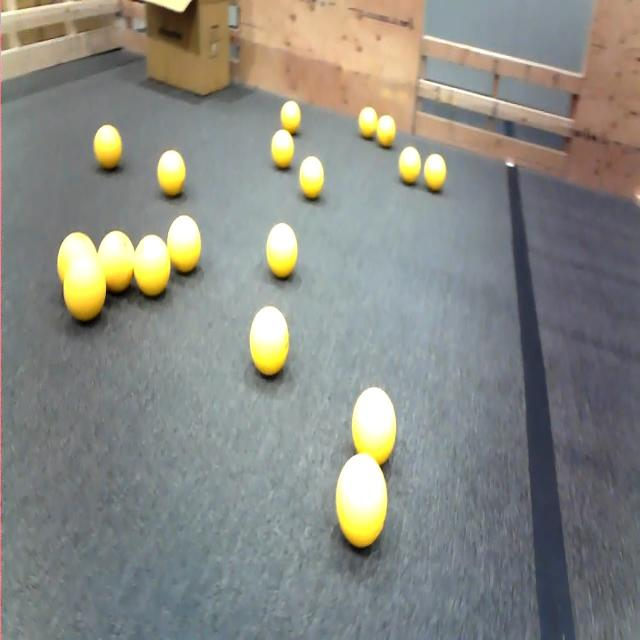fuel: (336, 454, 387, 548), (352, 387, 396, 464), (63, 254, 106, 321), (250, 306, 288, 376), (134, 234, 170, 297), (98, 231, 134, 293), (57, 232, 96, 283), (167, 215, 201, 273), (266, 223, 297, 278), (157, 150, 185, 197), (94, 125, 122, 170), (299, 156, 324, 199), (271, 129, 294, 168), (424, 154, 447, 192), (399, 146, 421, 184), (281, 101, 300, 135), (358, 107, 377, 139), (377, 115, 395, 148)
